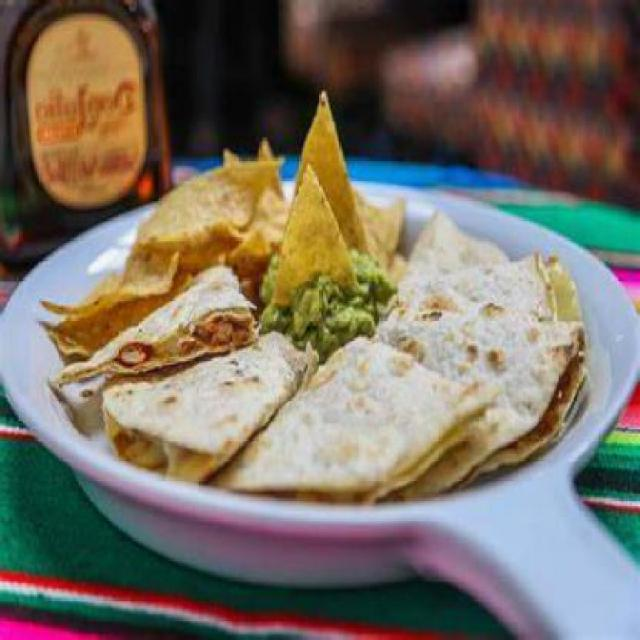chicken quesadilla: (51, 296, 600, 509)
guacamole: (251, 239, 386, 341)
nachos: (41, 79, 402, 290)
